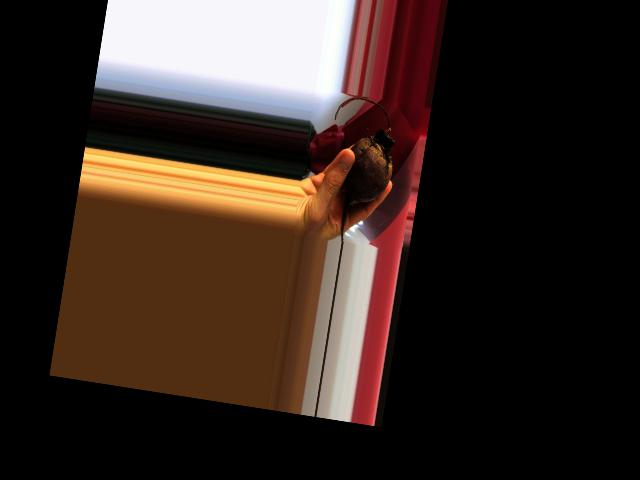beet: (315, 93, 402, 248)
